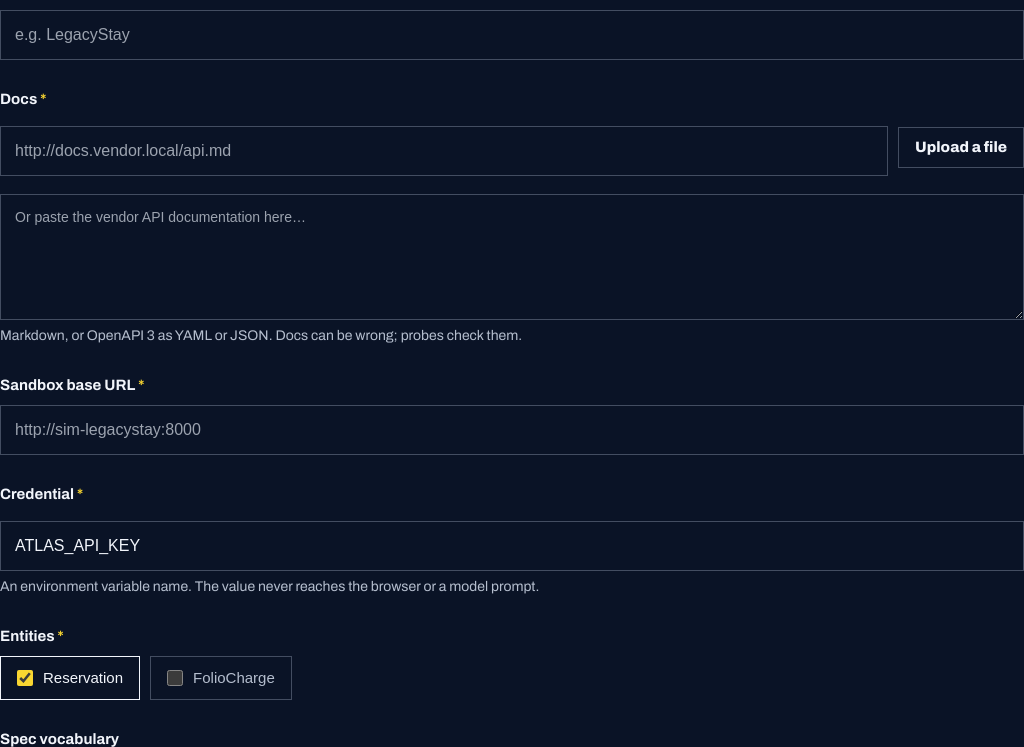
NewConnectorForm › shows error when create fails
Type "Bad" into the field with test id "input-name" at (512, 34), box x1=0 y1=10 x2=1023 y2=60
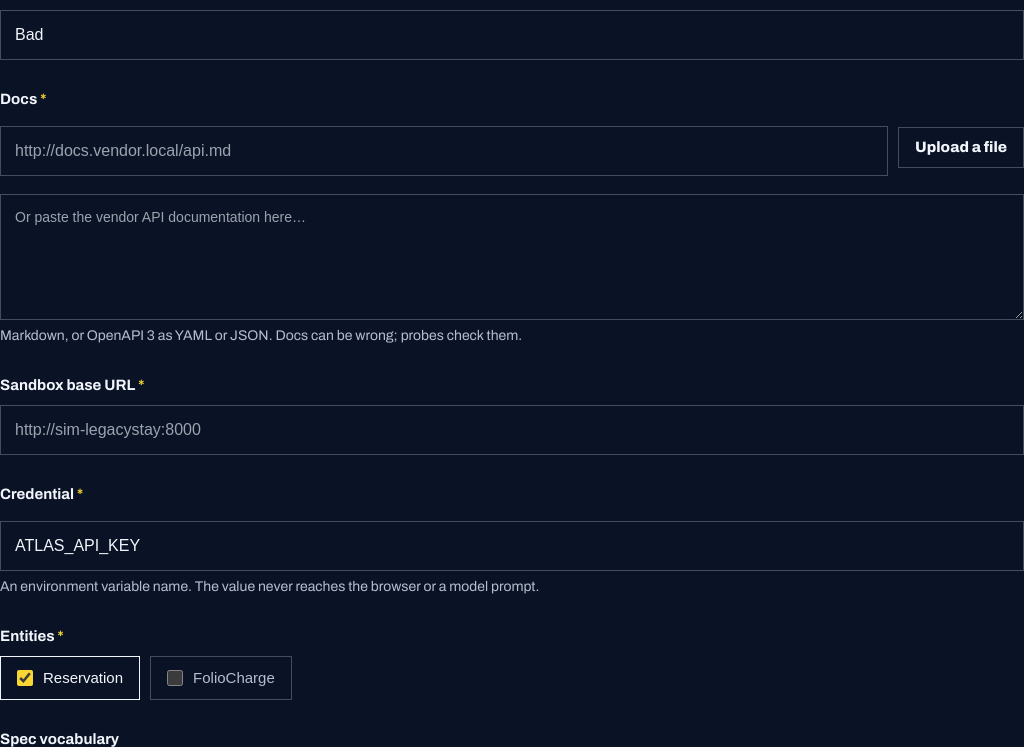
Type "http://sim-atlas:8000" into the field with test id "input-base-url" at (512, 430), box x1=0 y1=404 x2=1023 y2=454
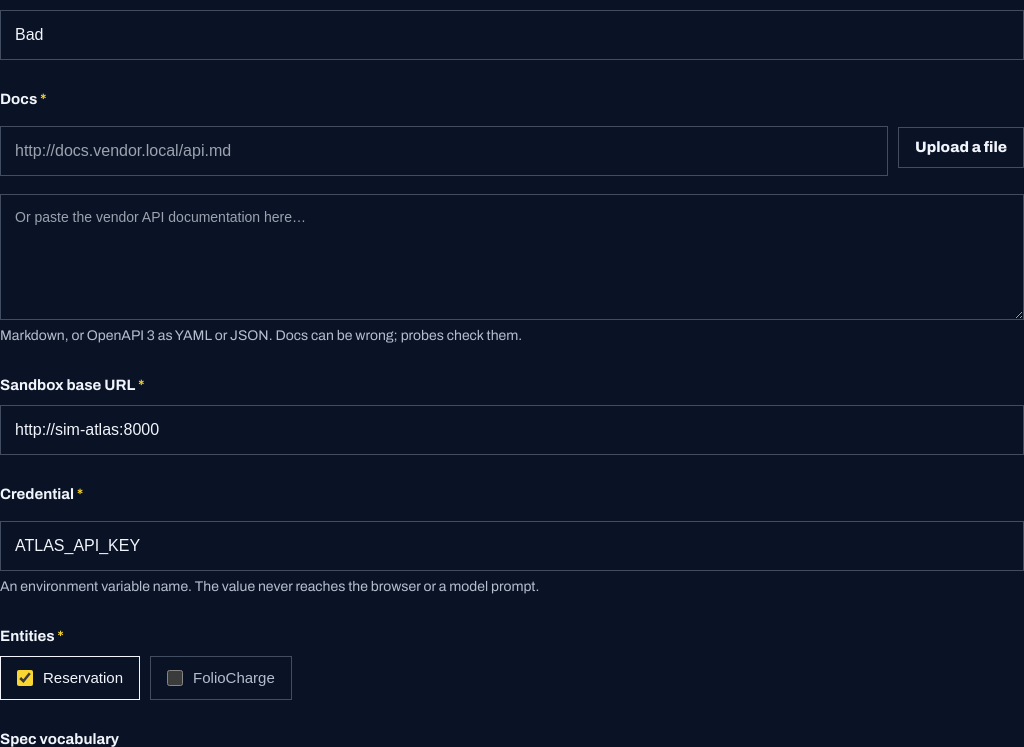
Type "docs" into the text box with test id "input-docs-text" at (512, 257), box x1=0 y1=194 x2=1023 y2=320
(page scrolled)
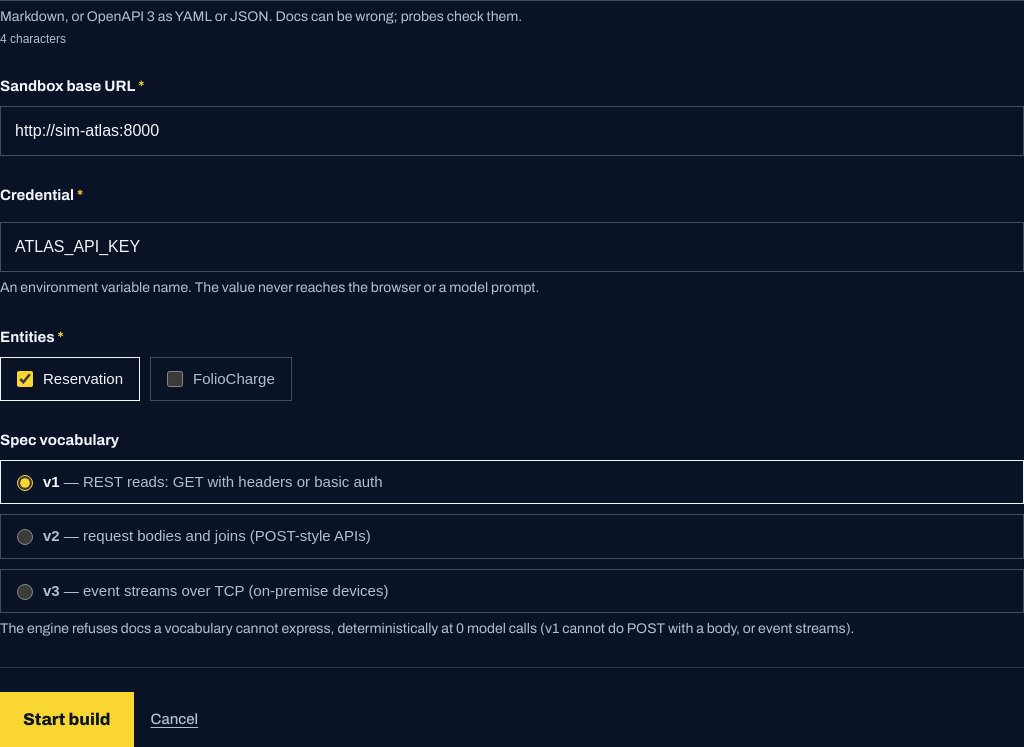
Click the button with test id "submit-build" at (67, 720), box x1=0 y1=692 x2=134 y2=746
(page scrolled)
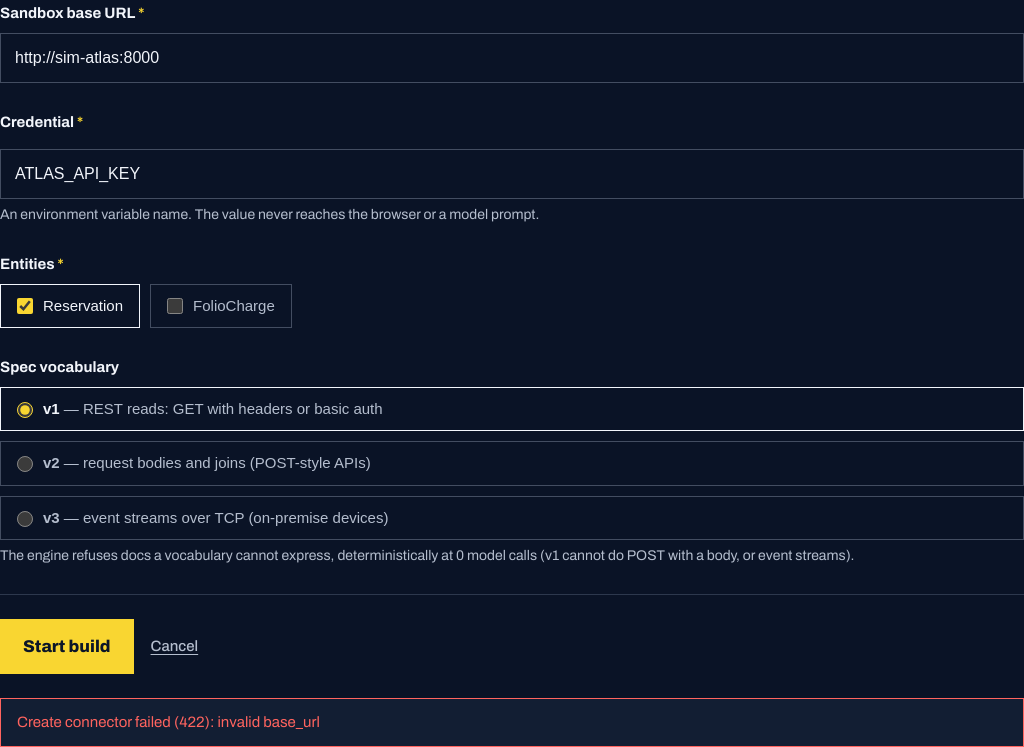
Check: the text "Create connector failed (422): invalid base_url" is shown, box x1=0 y1=698 x2=1023 y2=746
Check: the text with test id "submit-error" shows "Create connector failed", box x1=17 y1=714 x2=320 y2=730
